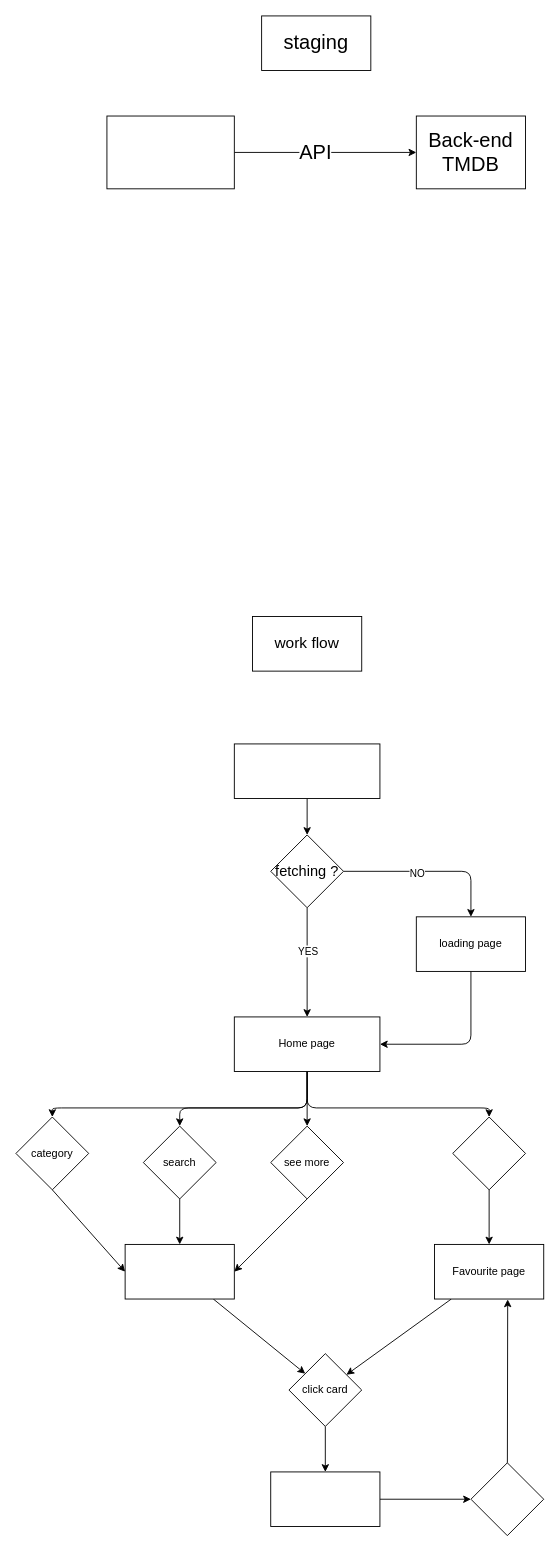
Image size: 560x1552. Some labels were removed from this diagram. Here are the shapes that lost their labels. From the top down, the box of each, then its label:
(106, 115, 234, 189): Front-end react js vercil
(233, 743, 380, 799): start
(452, 1116, 526, 1190): my list
(124, 1244, 234, 1299): search page
(270, 1471, 380, 1527): pop up window
(470, 1462, 544, 1536): To Favourite
